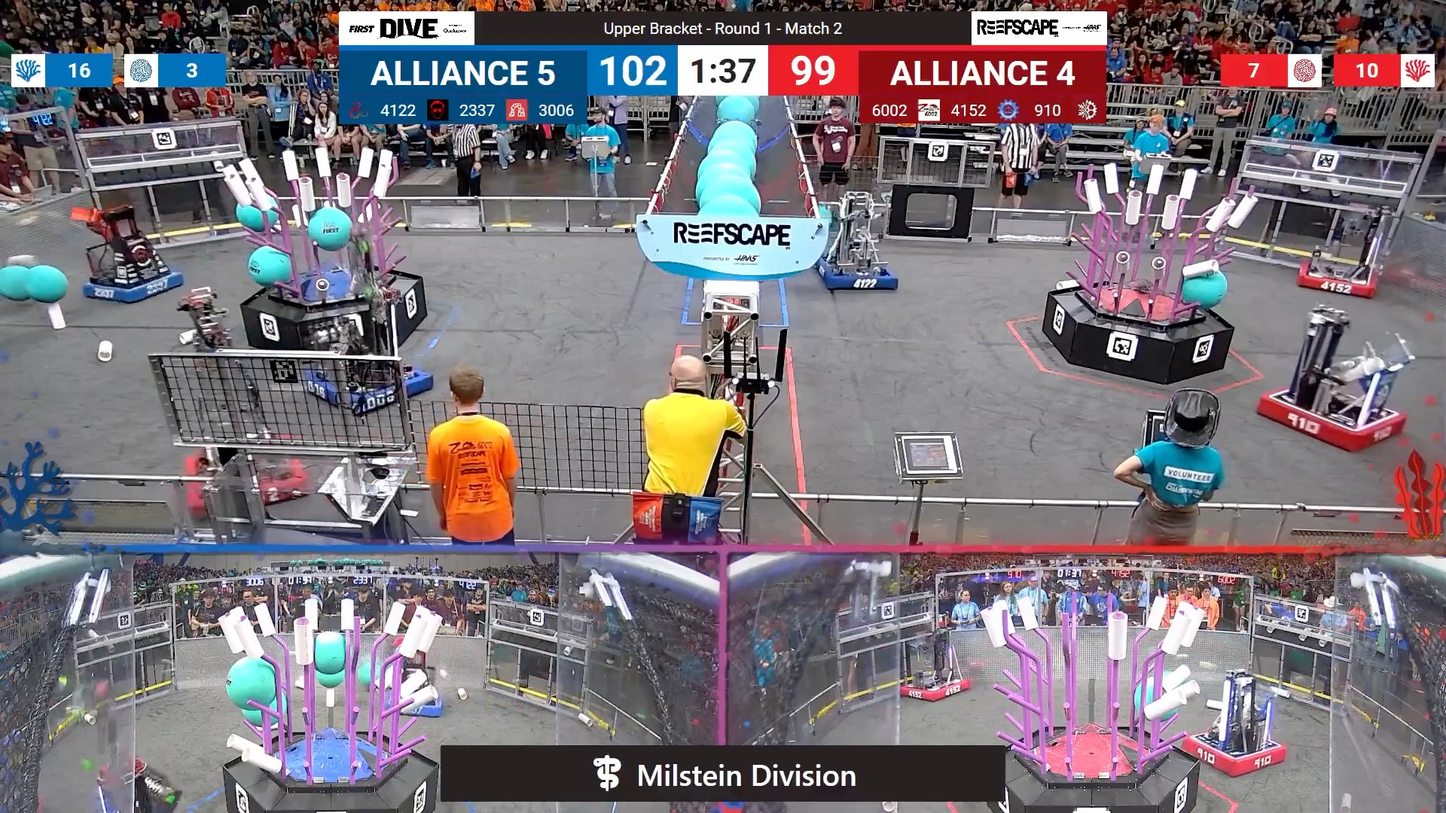bumpers: (1248, 383, 1407, 452), (178, 434, 314, 511), (294, 359, 441, 415), (77, 263, 194, 309), (1176, 730, 1291, 776), (1285, 255, 1386, 300), (807, 253, 904, 295), (895, 672, 976, 702), (376, 690, 451, 722)
